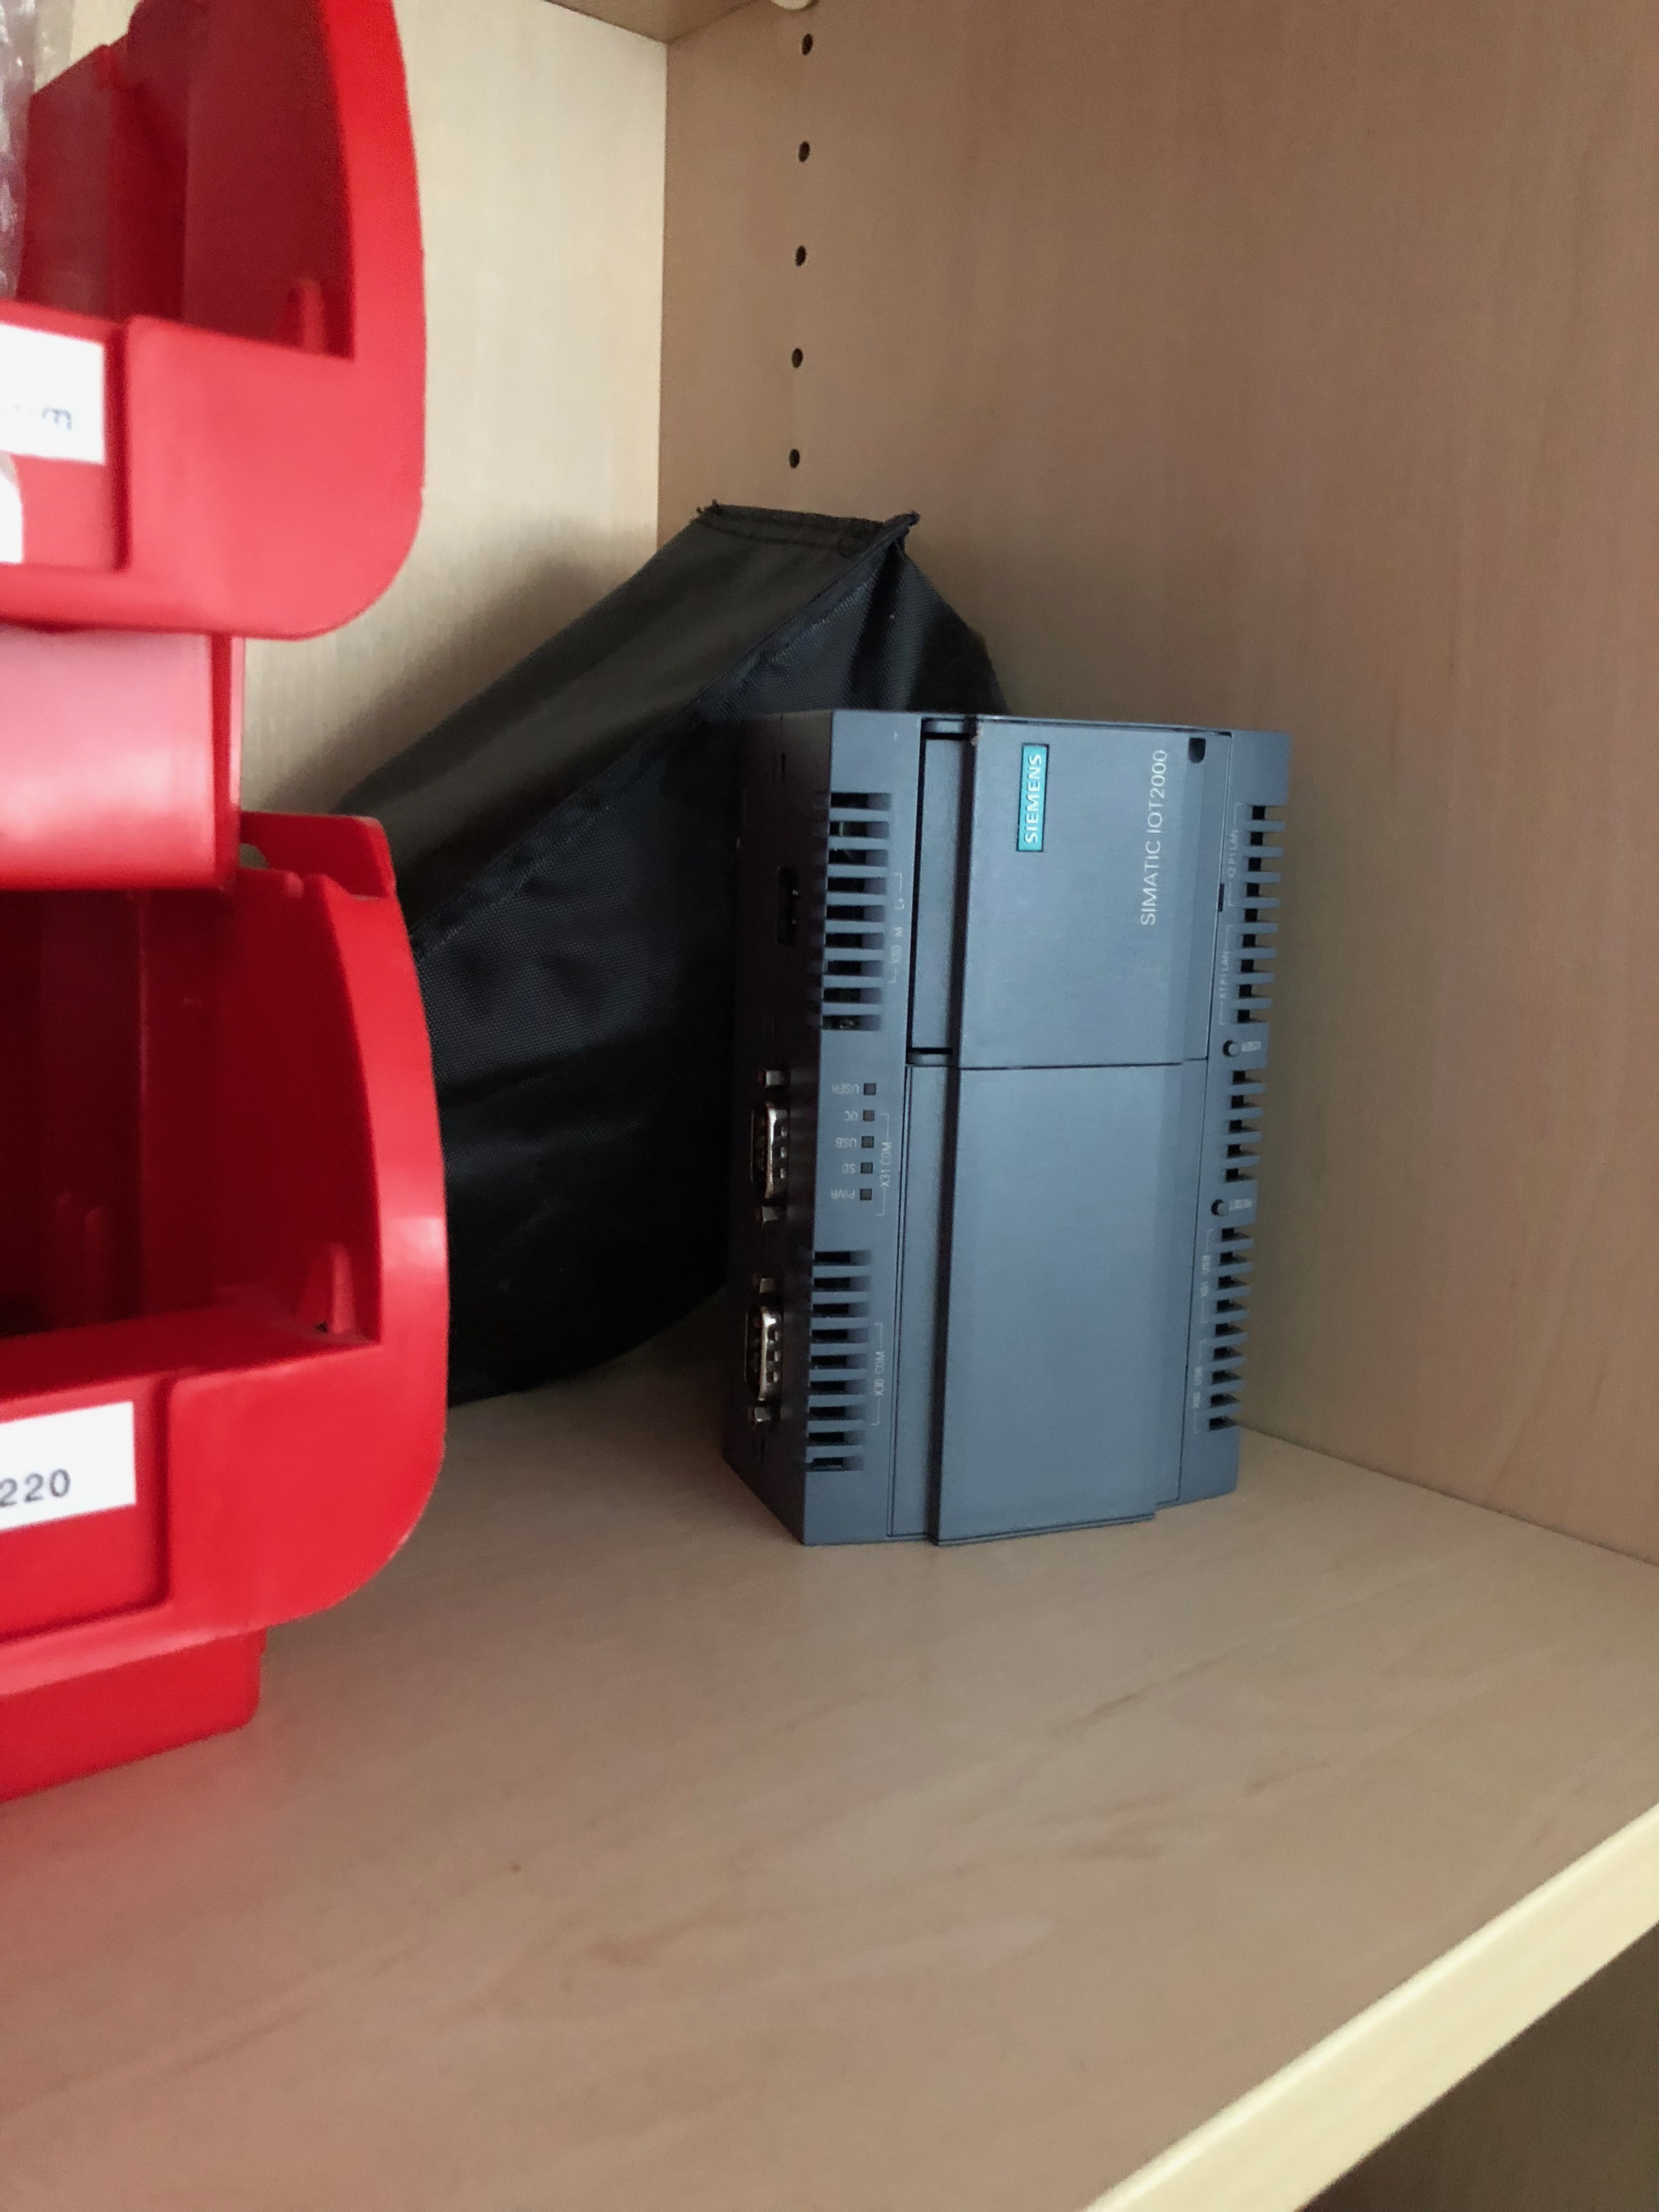device: (721, 709, 1291, 1548)
